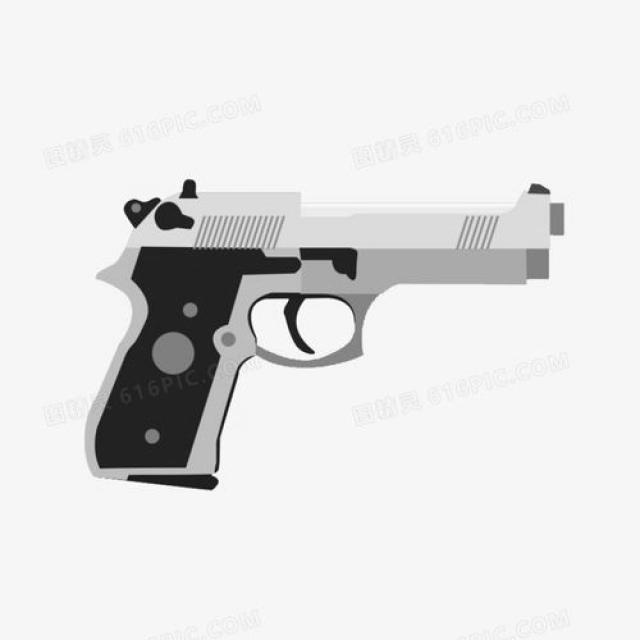gun: (83, 177, 565, 490)
